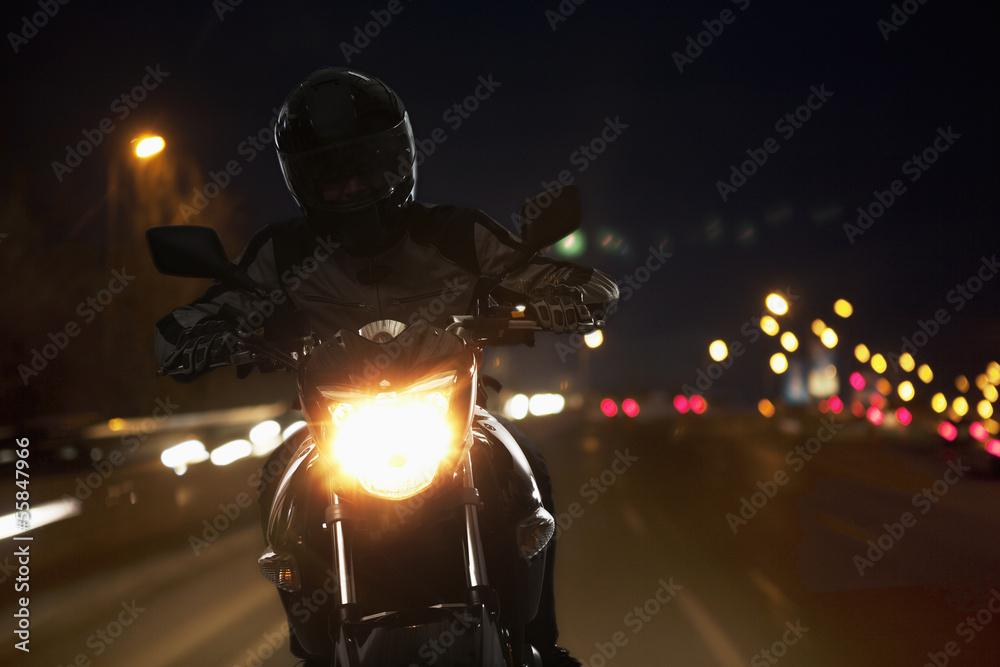helmet: (272, 63, 419, 250)
